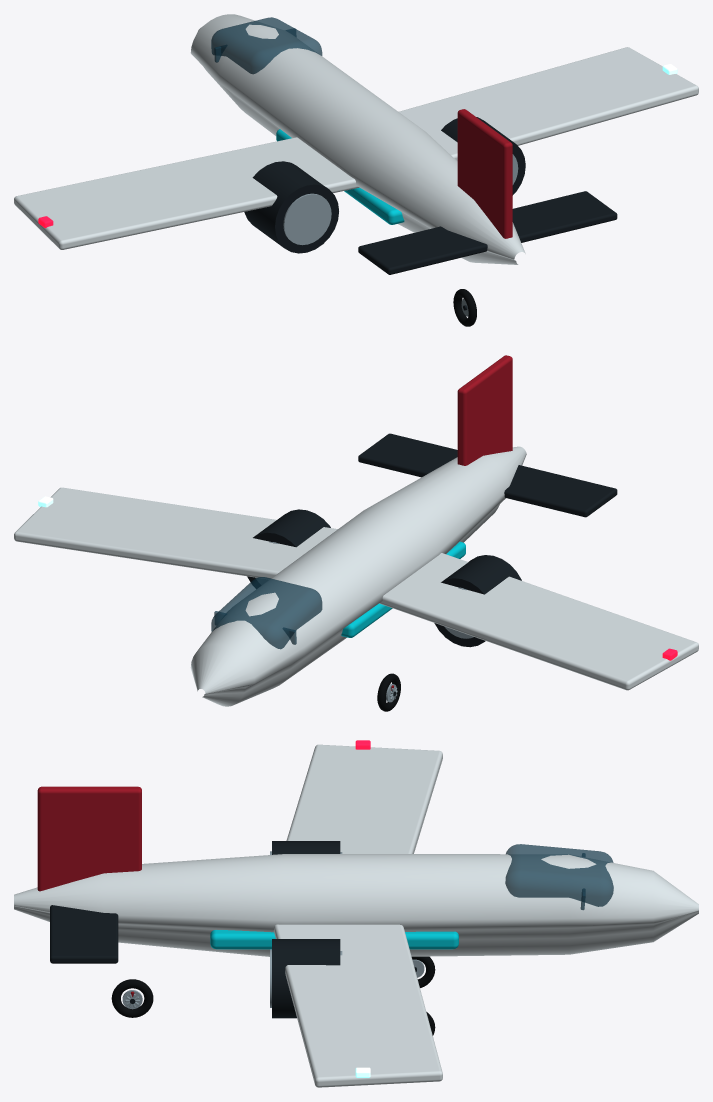
Rendered from aero_v1.glb.
The picture shows the model from 3 angles, top to bottom: view 1: azimuth 30°, elevation 25°; view 2: azimuth 150°, elevation 25°; view 3: azimuth 270°, elevation 25°; orthographic projection. The views are drawn at different scales.
Visible parts, largest first — view 1: meet_mesh__fuselage__pressure_shell, meet_mesh__left_wing__lifting_surface, meet_mesh__right_wing__lifting_surface, meet_mesh__horizontal_tail__stabilizer, meet_mesh__vertical_tail__fin, meet_mesh__propulsion__electric_fan_-1.22, meet_mesh__cockpit__canopy, meet_mesh__propulsion__fan_inlet_-1.22, meet_mesh__energy_pack__distributed_battery, meet_mesh__propulsion__electric_fan_1.22, meet_mesh__landing_gear_0_2.25__tire; view 2: meet_mesh__fuselage__pressure_shell, meet_mesh__left_wing__lifting_surface, meet_mesh__right_wing__lifting_surface, meet_mesh__horizontal_tail__stabilizer, meet_mesh__vertical_tail__fin, meet_mesh__cockpit__canopy, meet_mesh__propulsion__electric_fan_-1.22, meet_mesh__propulsion__electric_fan_1.22, meet_mesh__energy_pack__distributed_battery, meet_mesh__landing_gear_-0.72_-0.72__tire; view 3: meet_mesh__fuselage__pressure_shell, meet_mesh__right_wing__lifting_surface, meet_mesh__left_wing__lifting_surface, meet_mesh__vertical_tail__fin, meet_mesh__cockpit__canopy, meet_mesh__horizontal_tail__stabilizer, meet_mesh__propulsion__electric_fan_1.22, meet_mesh__energy_pack__distributed_battery, meet_mesh__landing_gear_0_2.25__tire, meet_mesh__propulsion__electric_fan_-1.22.
Part boxes in pixels (x1,y1,x2,y2): meet_mesh__fuselage__pressure_shell: (190, 14, 525, 264); meet_mesh__left_wing__lifting_surface: (14, 137, 359, 249); meet_mesh__right_wing__lifting_surface: (398, 47, 698, 160); meet_mesh__horizontal_tail__stabilizer: (358, 191, 617, 274); meet_mesh__vertical_tail__fin: (457, 109, 512, 238); meet_mesh__propulsion__electric_fan_-1.22: (244, 161, 338, 253); meet_mesh__cockpit__canopy: (211, 17, 322, 74); meet_mesh__propulsion__fan_inlet_-1.22: (283, 193, 331, 245); meet_mesh__energy_pack__distributed_battery: (276, 129, 404, 224); meet_mesh__propulsion__electric_fan_1.22: (441, 117, 525, 195); meet_mesh__landing_gear_0_2.25__tire: (453, 289, 476, 326); meet_mesh__fuselage__pressure_shell: (190, 446, 526, 706); meet_mesh__left_wing__lifting_surface: (379, 553, 698, 690); meet_mesh__right_wing__lifting_surface: (14, 487, 337, 579); meet_mesh__horizontal_tail__stabilizer: (358, 433, 617, 517); meet_mesh__vertical_tail__fin: (457, 355, 512, 465); meet_mesh__cockpit__canopy: (211, 577, 322, 649); meet_mesh__propulsion__electric_fan_-1.22: (434, 555, 521, 647); meet_mesh__propulsion__electric_fan_1.22: (247, 509, 330, 588); meet_mesh__energy_pack__distributed_battery: (341, 541, 465, 637); meet_mesh__landing_gear_-0.72_-0.72__tire: (377, 673, 400, 711); meet_mesh__fuselage__pressure_shell: (14, 854, 698, 956); meet_mesh__right_wing__lifting_surface: (273, 924, 442, 1087); meet_mesh__left_wing__lifting_surface: (286, 744, 442, 853); meet_mesh__vertical_tail__fin: (37, 786, 141, 891); meet_mesh__cockpit__canopy: (505, 844, 613, 906); meet_mesh__horizontal_tail__stabilizer: (50, 905, 118, 963); meet_mesh__propulsion__electric_fan_1.22: (272, 939, 340, 1018); meet_mesh__energy_pack__distributed_battery: (210, 930, 458, 949); meet_mesh__landing_gear_0_2.25__tire: (111, 979, 153, 1017); meet_mesh__propulsion__electric_fan_-1.22: (272, 841, 340, 854).
Bounding box in the file's own units: 8.36 × 2.67 × 7.22.
